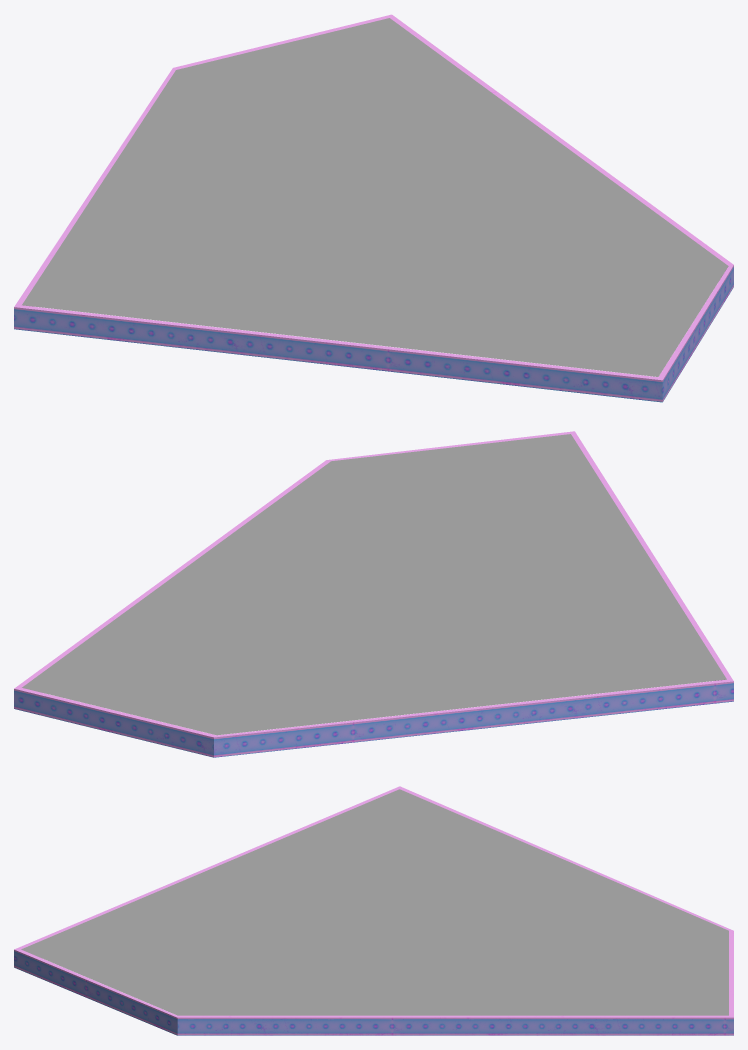
Rendered from Ramp_01_SM_Low.fbx.
The picture shows the model from 3 angles, top to bottom: view 1: azimuth 30°, elevation 25°; view 2: azimuth 150°, elevation 25°; view 3: azimuth 270°, elevation 25°; orthographic projection. The views are drawn at different scales.
Parts seen in each view (by area): view 1: GratedFloor, Side; view 2: GratedFloor, Side; view 3: GratedFloor, Side.
Part boxes in pixels (x1,y1,x2,y2): GratedFloor: (22, 18, 728, 376); Side: (14, 14, 733, 402); GratedFloor: (22, 434, 726, 735); Side: (14, 431, 733, 757); GratedFloor: (21, 789, 728, 1015); Side: (14, 786, 733, 1035).
Bounding box in the file's own units: 481 × 17.64 × 632.
Materials: 2 (1 with a texture image).
